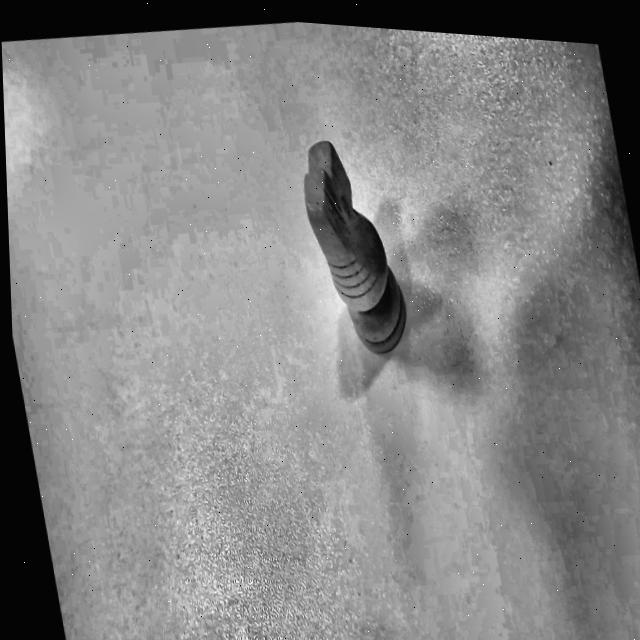white-knight: (252, 56, 457, 429)
